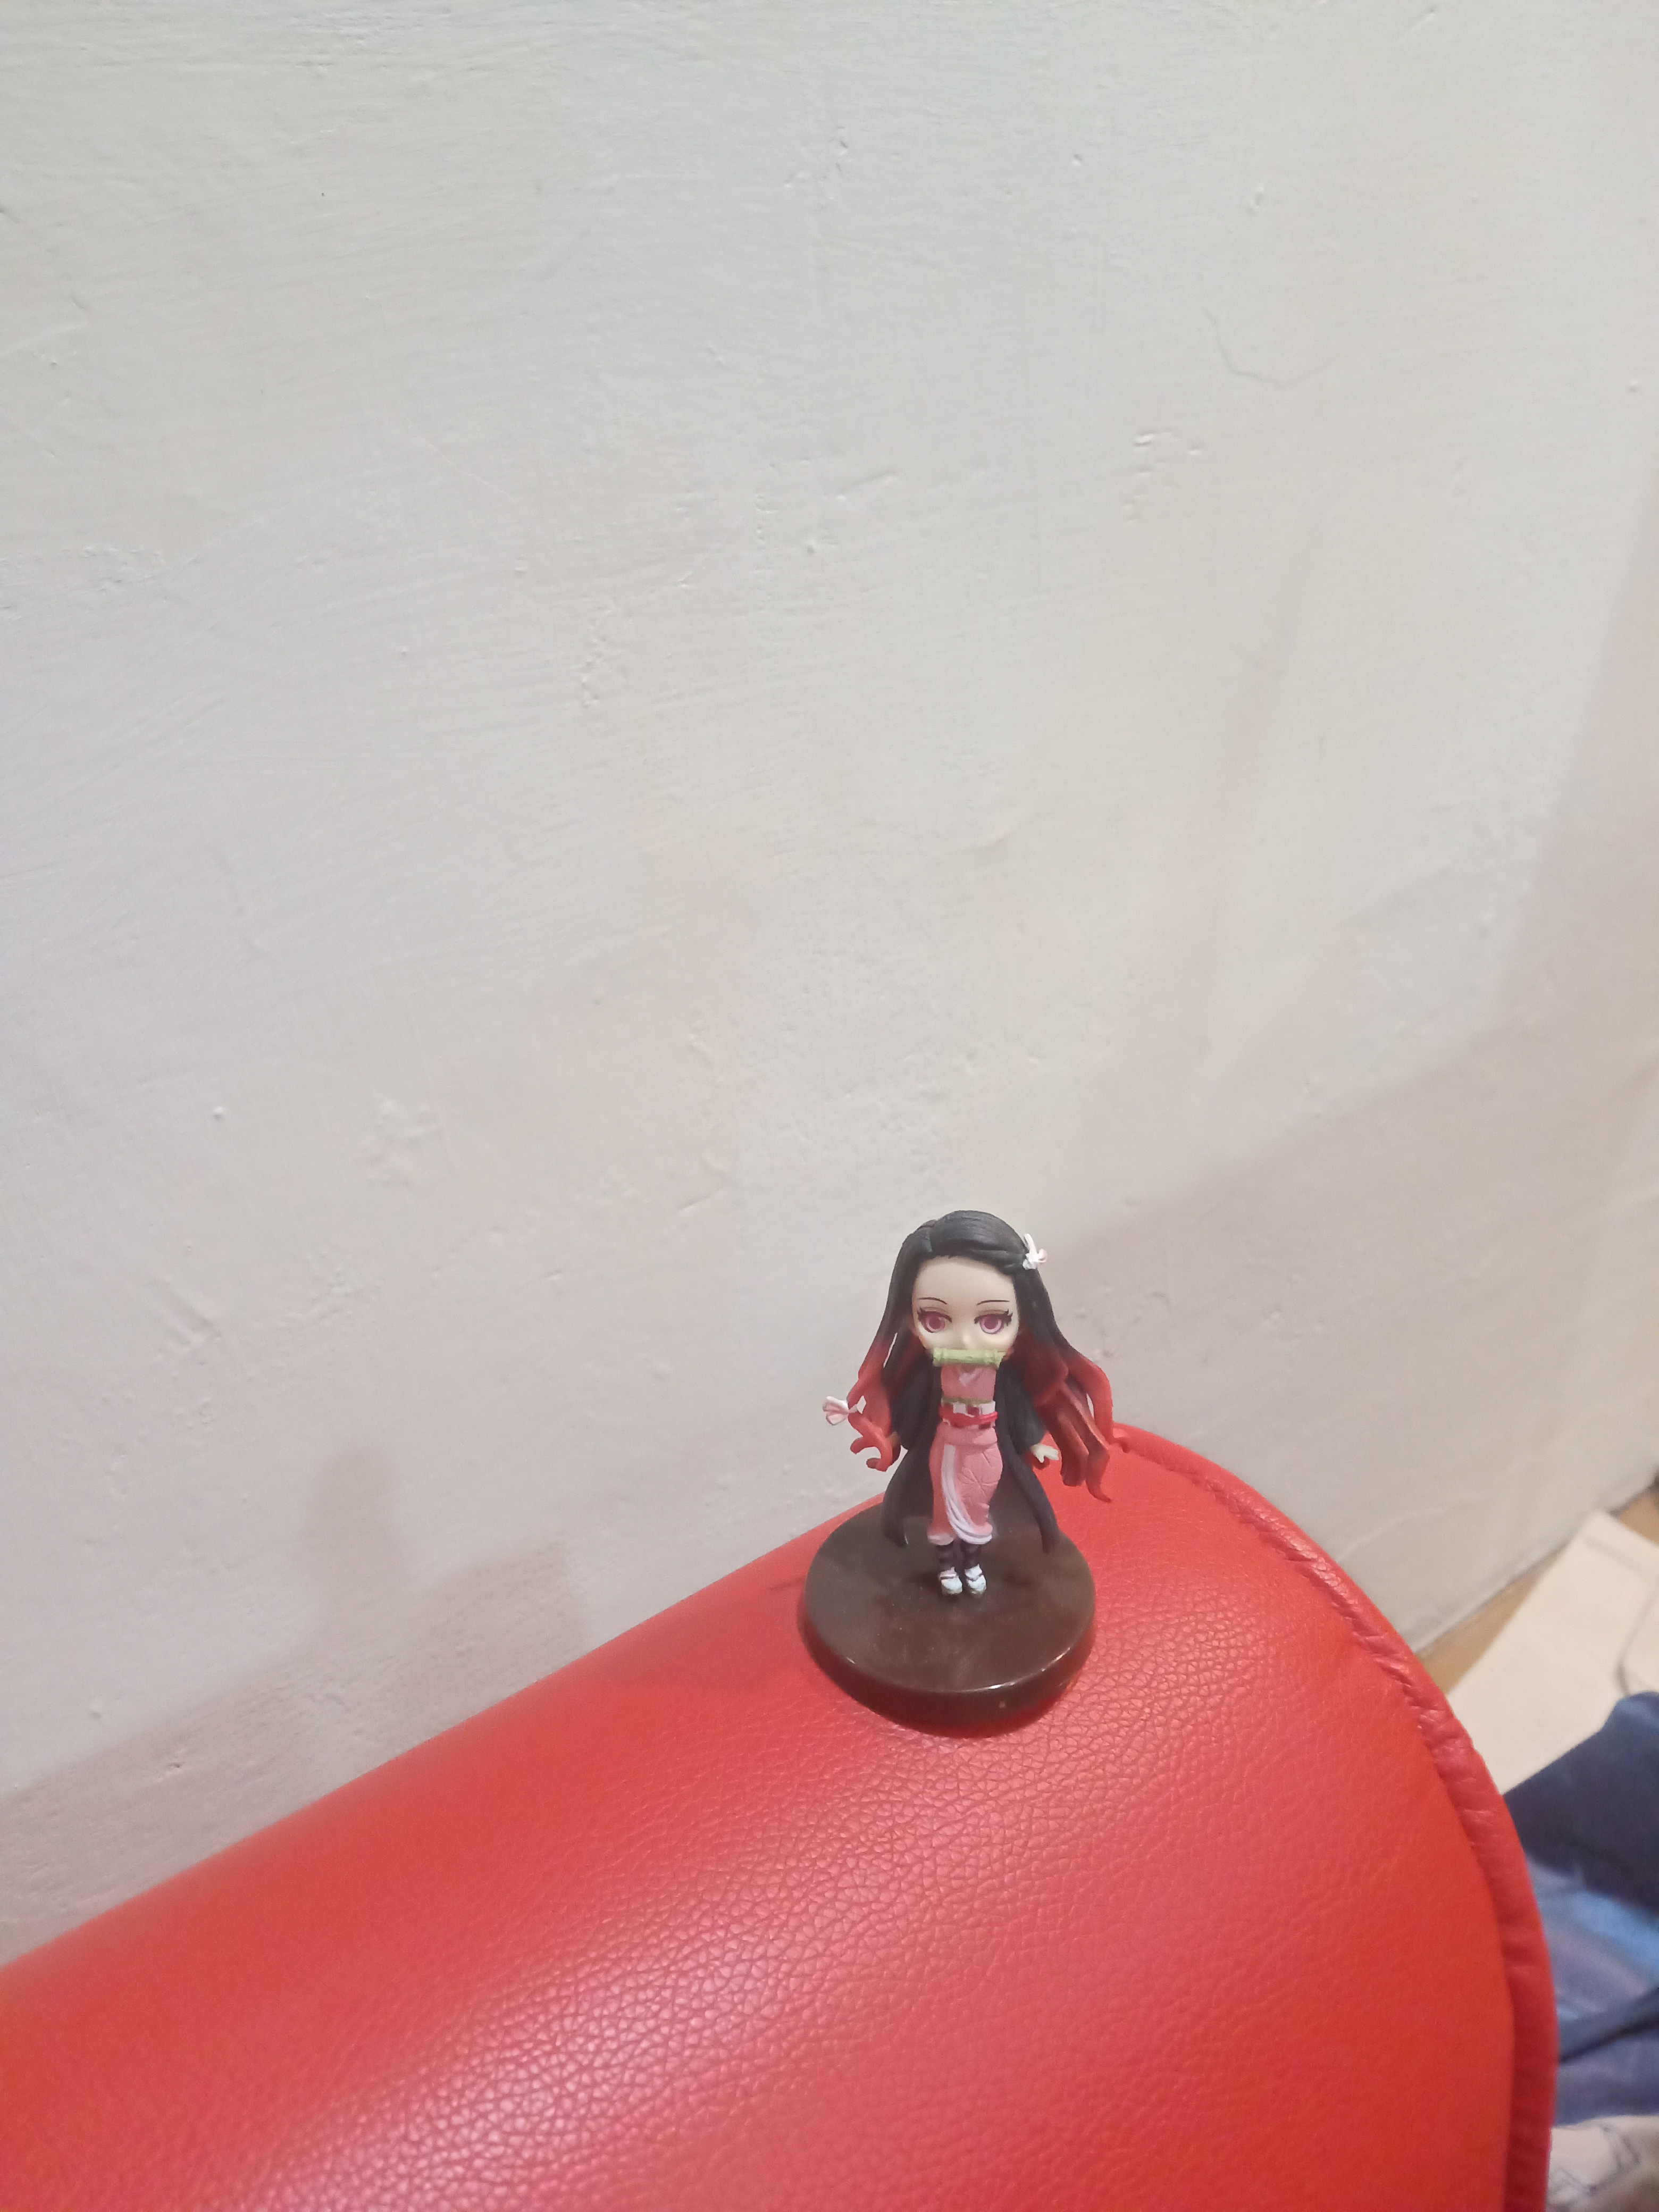Nezuko: (789, 1202, 1140, 1757)
